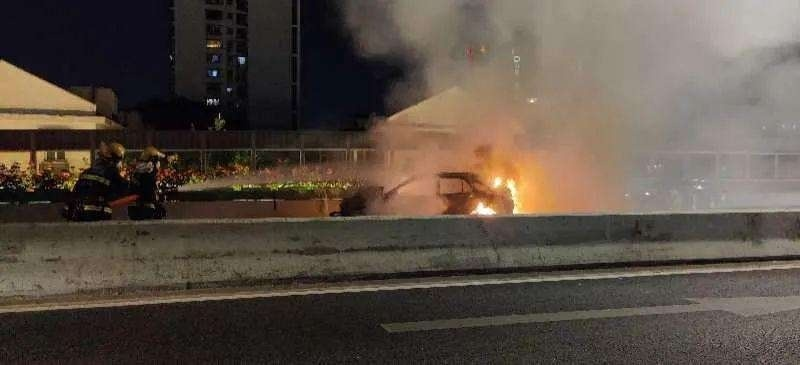fire: (468, 172, 525, 218)
